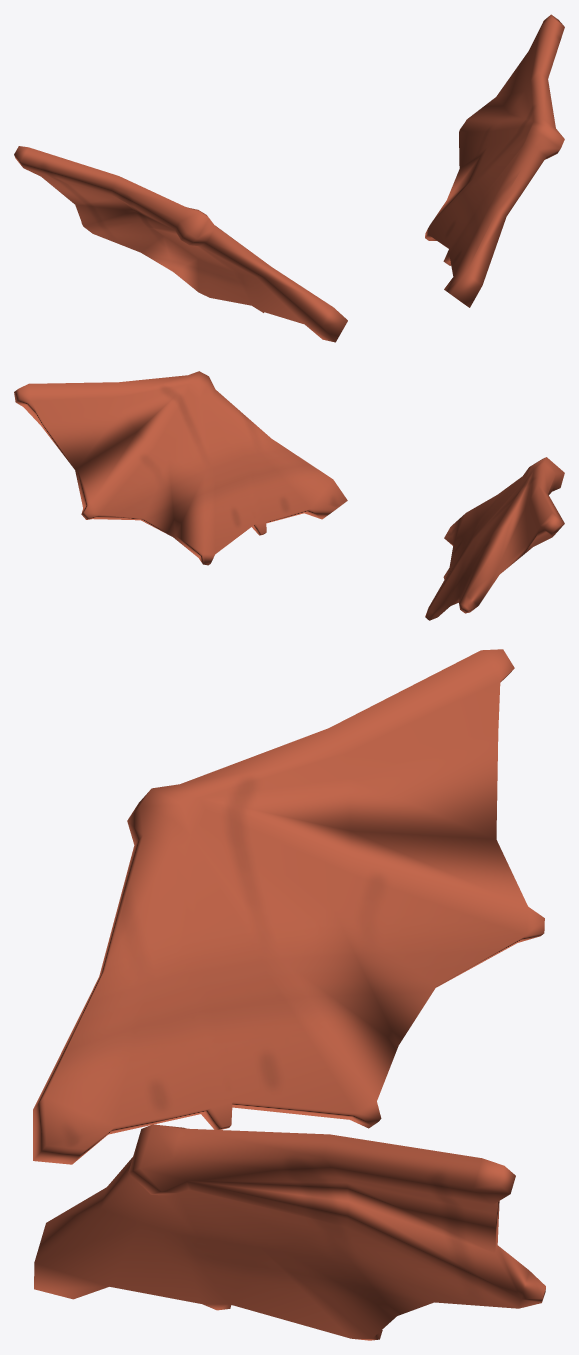
File: Accessory_Wings.fbx
3 renders of one model, top to bottom at view 1: azimuth 30°, elevation 25°; view 2: azimuth 150°, elevation 25°; view 3: azimuth 270°, elevation 25°, orthographic. The views are drawn at different scales.
Parts seen in each view (by area): view 1: Accessory_Wings_01_model; view 2: Accessory_Wings_01_model; view 3: Accessory_Wings_01_model.
Part boxes in pixels (box(x1,y1,x2,y2)): Accessory_Wings_01_model: box(14, 14, 564, 342); Accessory_Wings_01_model: box(14, 371, 564, 620); Accessory_Wings_01_model: box(33, 649, 545, 1340).
Size of the model in its own units: 10.82 by 3.16 by 4.42.
